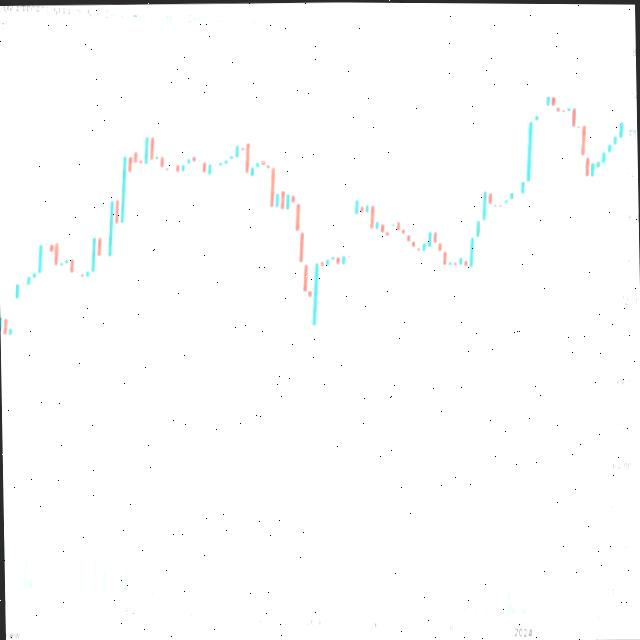Gap Up: (337, 189, 368, 268), (2, 281, 26, 342), (528, 89, 554, 134)
